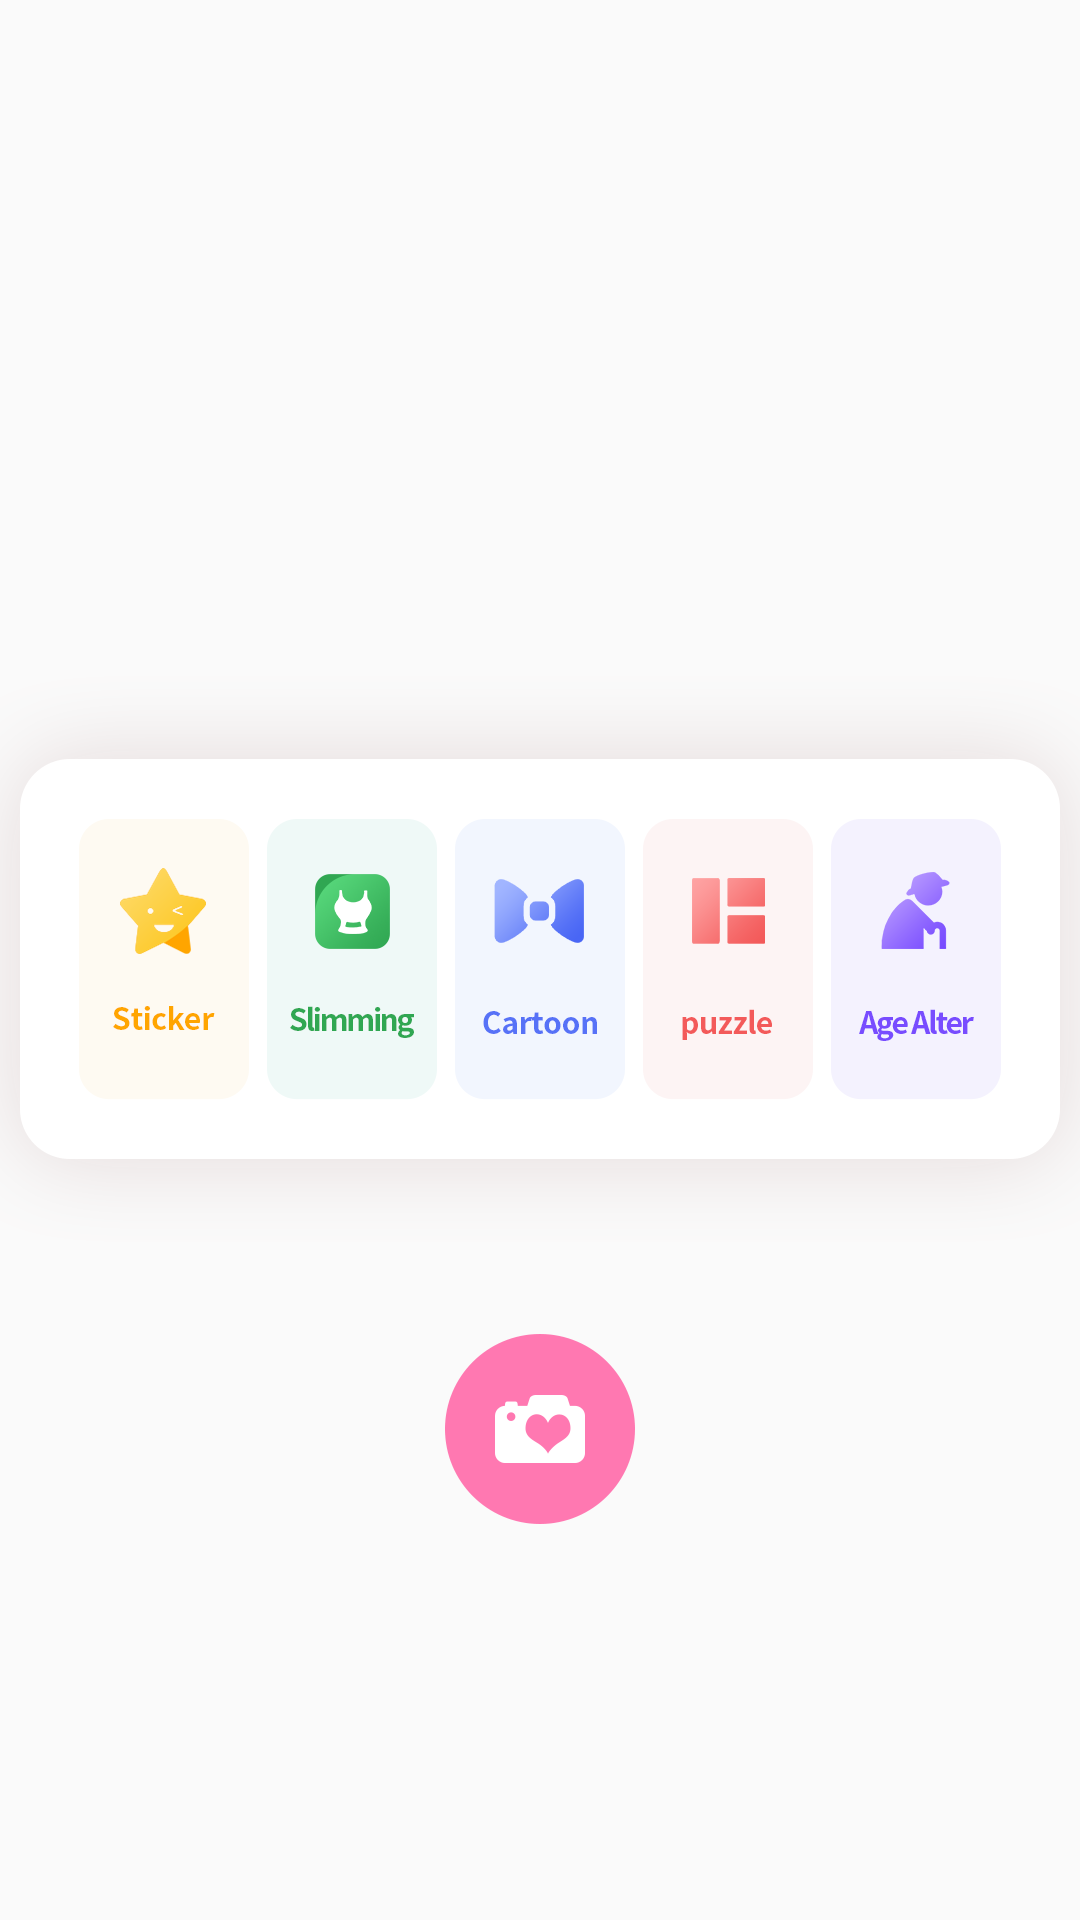

Point at icon controls on the screen. Image size 1080px×1920px, points as point (x, y).
item camera: point (540, 1429)
